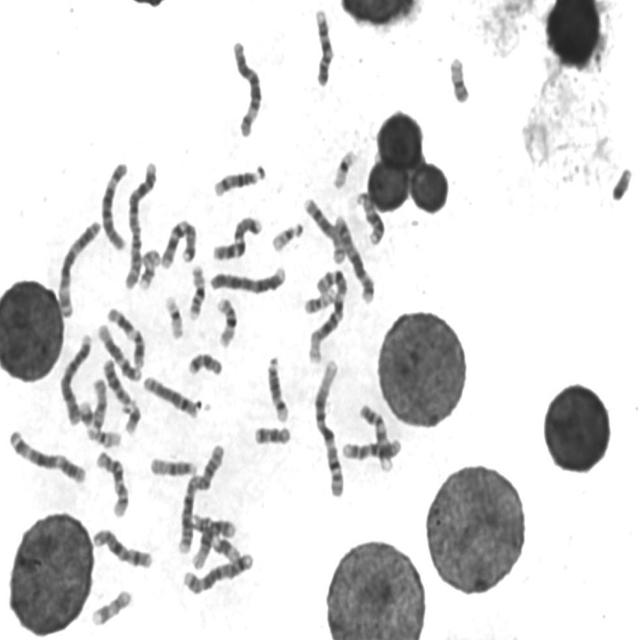A1: (311, 356, 347, 499), (305, 263, 350, 365)
A2: (176, 440, 226, 555), (121, 157, 158, 291)
A3: (5, 425, 89, 486), (54, 216, 102, 319)
B4: (57, 329, 94, 427), (207, 261, 288, 296)
B5: (331, 210, 377, 306), (180, 548, 255, 597)
C10: (94, 447, 131, 519), (92, 527, 153, 568)
C11: (183, 508, 243, 569), (105, 304, 146, 372)
C12: (95, 319, 143, 382), (190, 513, 239, 569)
C6: (230, 35, 264, 139), (98, 158, 130, 252)
C7: (210, 212, 264, 262), (158, 215, 199, 270)
C8: (301, 192, 347, 265), (140, 372, 201, 420)
C9: (357, 399, 395, 473), (311, 3, 335, 88)
D13: (354, 188, 386, 247), (100, 356, 133, 410)
D14: (210, 163, 266, 198), (264, 351, 290, 424)
D15: (148, 453, 200, 478), (88, 374, 110, 432)
E16: (213, 292, 240, 350), (185, 260, 208, 322)
E17: (88, 585, 134, 628), (135, 244, 162, 292)
E18: (185, 348, 224, 378), (252, 421, 292, 447)
F19: (330, 145, 359, 191), (162, 290, 185, 340)
F20: (446, 52, 472, 104), (301, 284, 338, 316)
G21: (121, 398, 142, 436), (77, 395, 95, 429)
G22: (269, 218, 305, 254), (84, 424, 123, 448)
Y: (609, 163, 633, 203)
